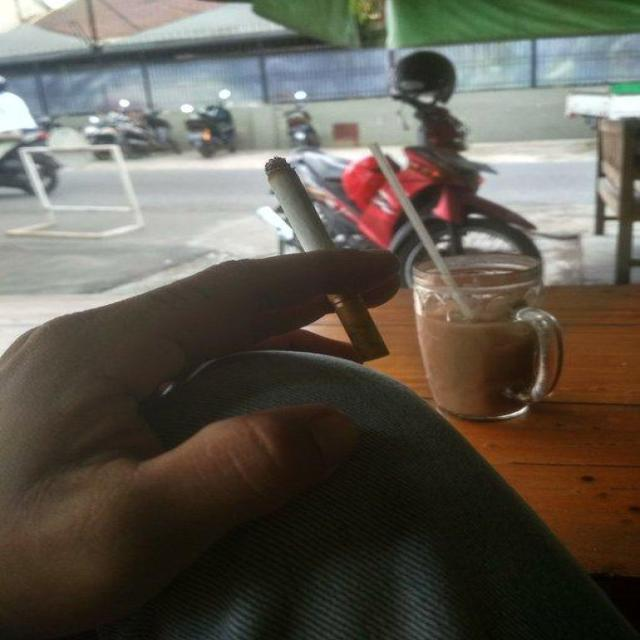rokok: (268, 151, 400, 359)
